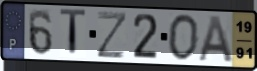2: (131, 12, 160, 62)
6: (27, 8, 54, 57)
A: (196, 14, 236, 64)
O: (167, 13, 200, 63)
T: (59, 7, 88, 60)
Z: (96, 11, 129, 60)
